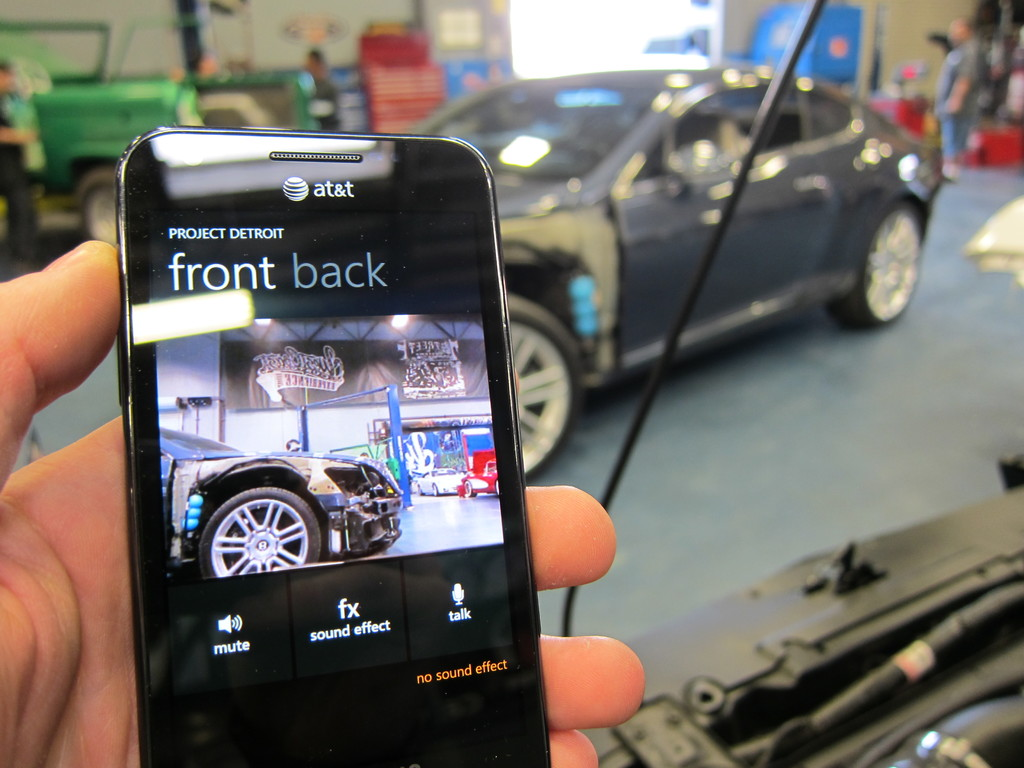Car: (416, 69, 940, 485)
